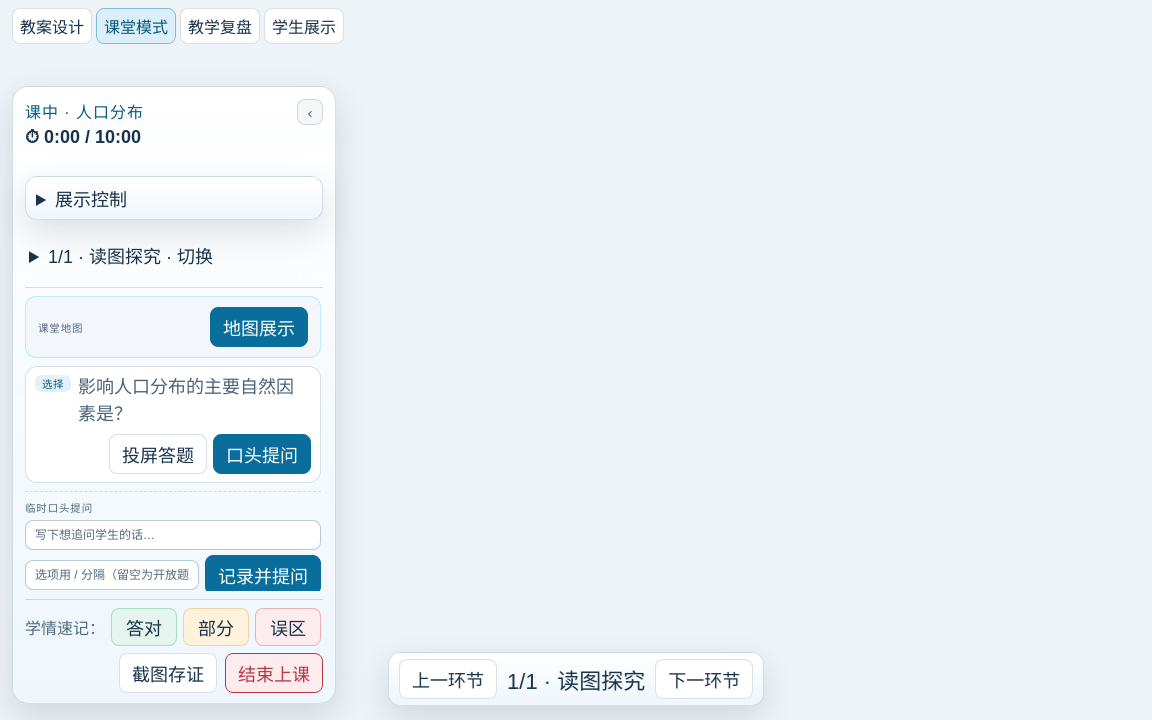
LessonWorkflowShell question projection › launches a projection from the class run panel and opens the modal
Expected: the element with test id "class-run-panel" is shown, [12, 86, 336, 704]
Click the button with test id "project-toggle-qb_1".
click(158, 454)  # box [109, 434, 207, 474]
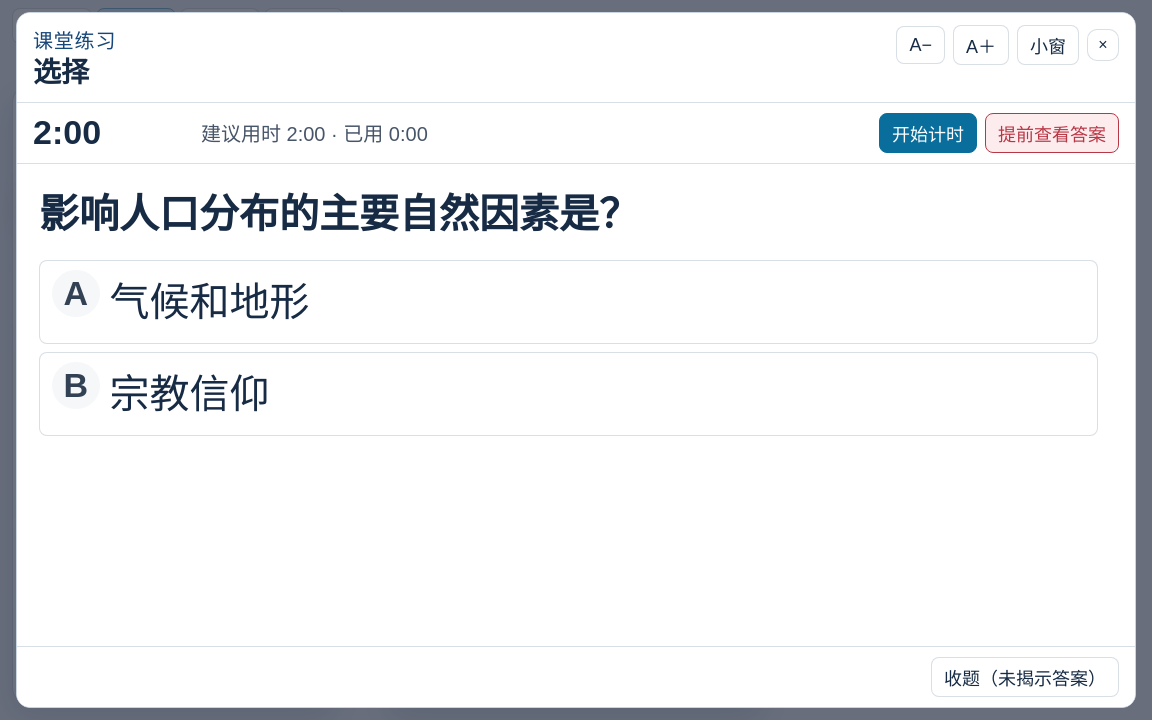
Now the dialog with test id "question-practice-modal" is shown
